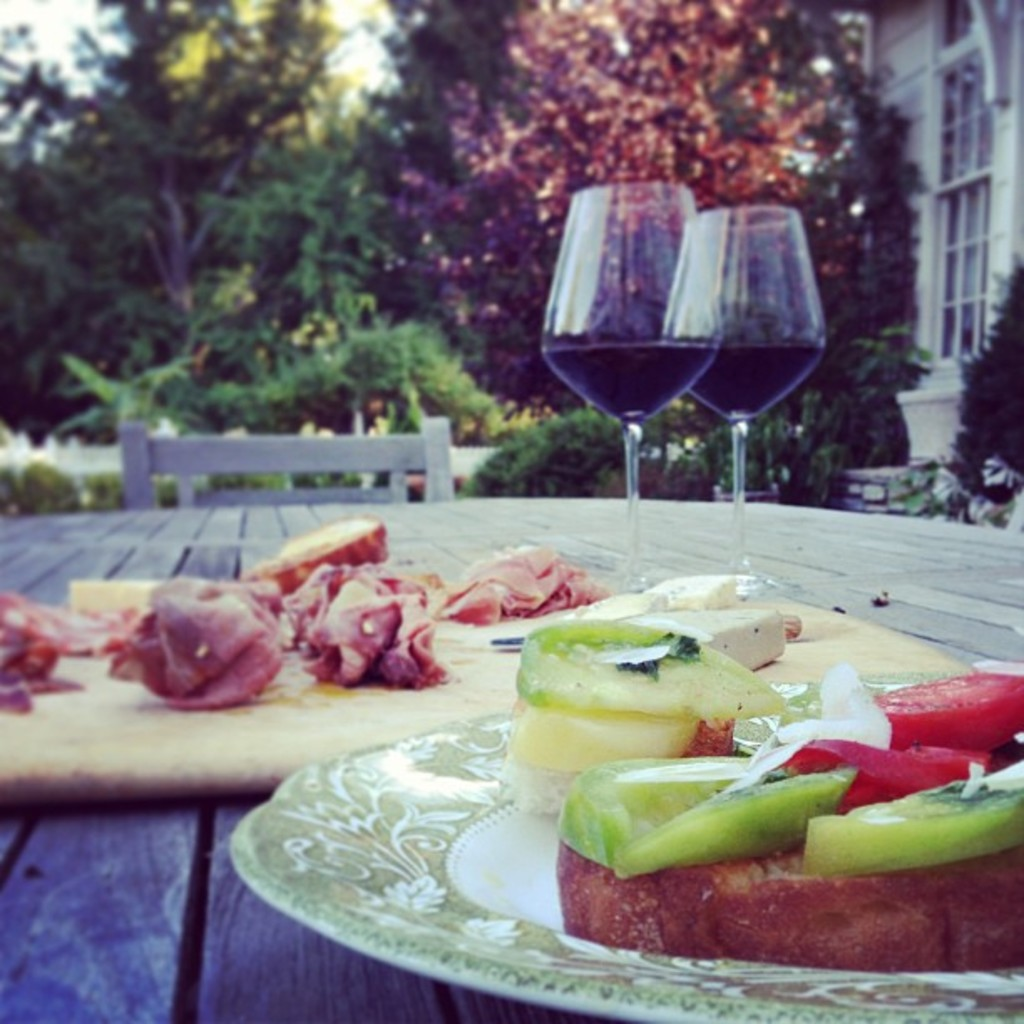salad: (422, 622, 1024, 994)
